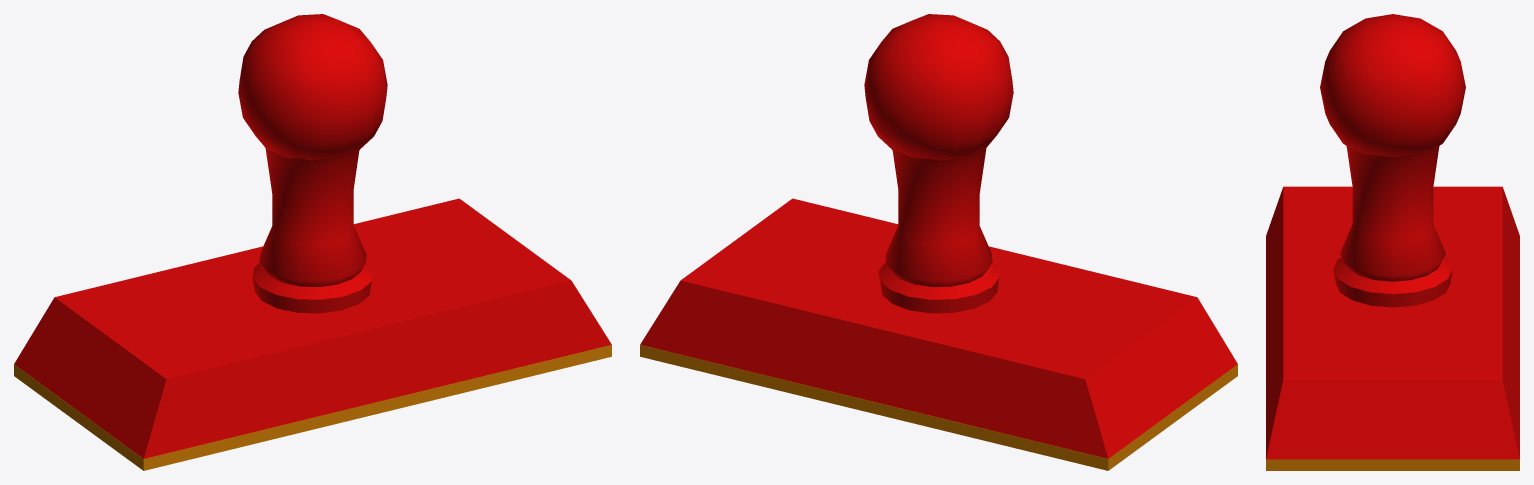
The model's file is Top.fbx.
3 renders of one model, left to right at view 1: azimuth 30°, elevation 25°; view 2: azimuth 150°, elevation 25°; view 3: azimuth 270°, elevation 25°, orthographic. The views are drawn at different scales.
Parts seen in each view (by area): view 1: Stamp(Top); view 2: Stamp(Top); view 3: Stamp(Top).
Part boxes in pixels (x1,y1,x2,y2): Stamp(Top): (14,14,611,470); Stamp(Top): (640,14,1237,470); Stamp(Top): (1266,14,1519,470).
Size of the model in its own units: 26.3 by 18.52 by 12.61.
